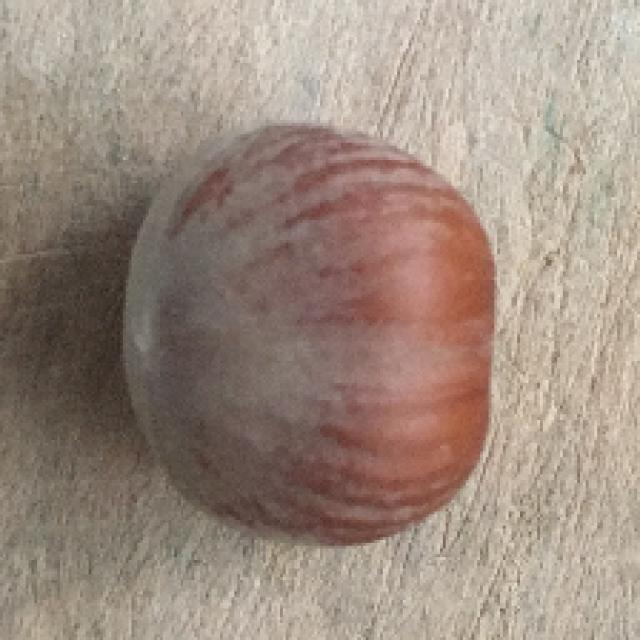qualityHazelnut: (117, 122, 498, 548)
